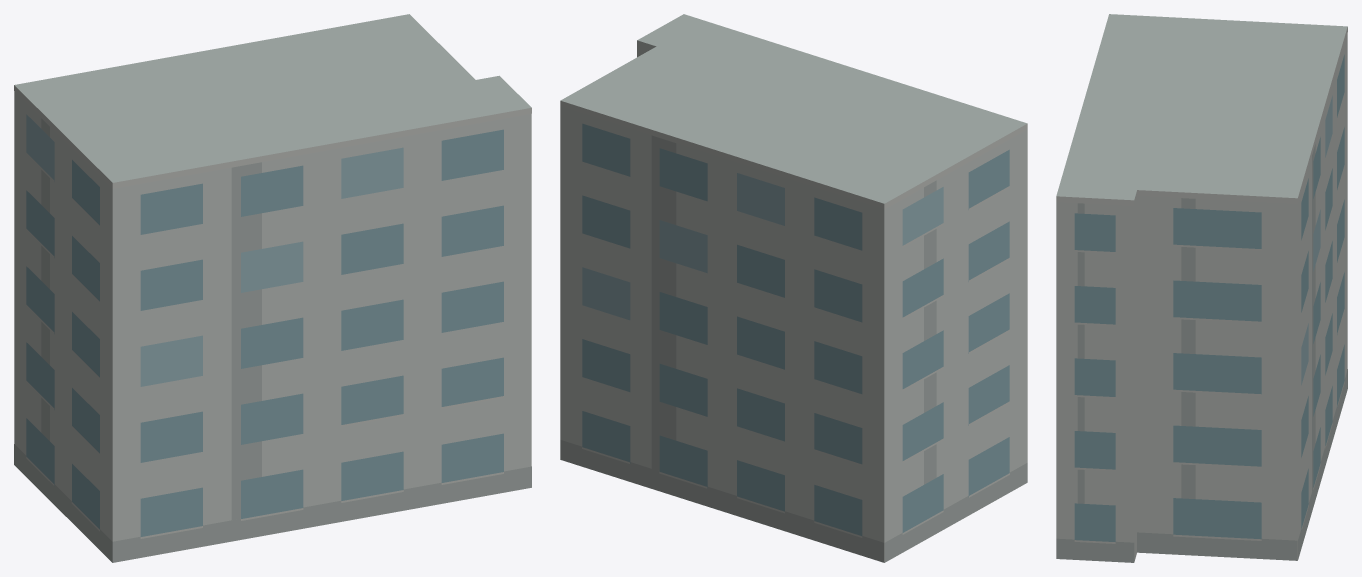
File: residential-af45aaf4-c029-4380-9216-93bc959b7733.glb
3 renders of one model, left to right at view 1: azimuth 30°, elevation 25°; view 2: azimuth 150°, elevation 25°; view 3: azimuth 270°, elevation 25°, orthographic. The views are drawn at different scales.
Parts seen in each view (by area): view 1: residential-af45aaf4-c029-4380-9216-93bc959b7733.tmp; view 2: residential-af45aaf4-c029-4380-9216-93bc959b7733.tmp; view 3: residential-af45aaf4-c029-4380-9216-93bc959b7733.tmp.
Part boxes in pixels (x1,y1,x2,y2): residential-af45aaf4-c029-4380-9216-93bc959b7733.tmp: [14, 14, 531, 562]; residential-af45aaf4-c029-4380-9216-93bc959b7733.tmp: [560, 14, 1027, 562]; residential-af45aaf4-c029-4380-9216-93bc959b7733.tmp: [1056, 14, 1347, 562].
Size of the model in its own units: 16.81 by 15.25 by 11.12.
